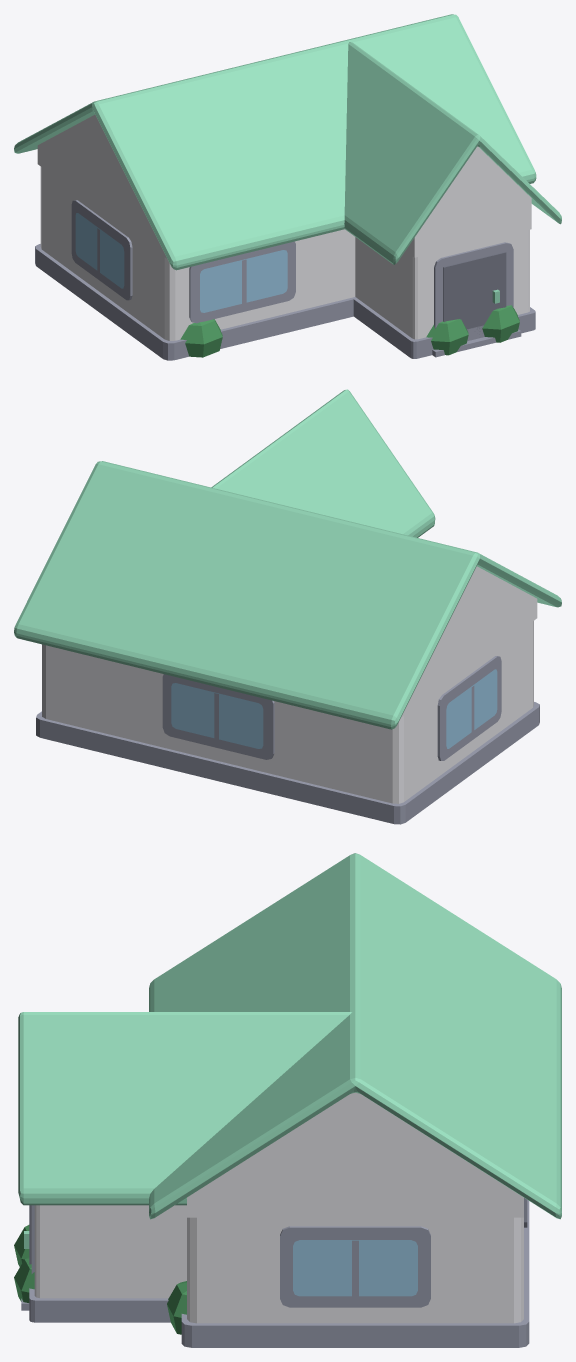
File: house-1x1-1f-tone-a.glb
The picture shows the model from 3 angles, top to bottom: view 1: azimuth 30°, elevation 25°; view 2: azimuth 150°, elevation 25°; view 3: azimuth 270°, elevation 25°; orthographic projection. The views are drawn at different scales.
Visible parts, largest first — view 1: house-1x1-1f-tone-a; view 2: house-1x1-1f-tone-a; view 3: house-1x1-1f-tone-a.
Part boxes in pixels (x1=…): house-1x1-1f-tone-a: x1=14, y1=14, x2=561, y2=360; house-1x1-1f-tone-a: x1=14, y1=389, x2=561, y2=824; house-1x1-1f-tone-a: x1=14, y1=853, x2=561, y2=1347.
Bounding box in the file's own units: 1 × 0.5522 × 1.01.
1 material, 1 textured.
